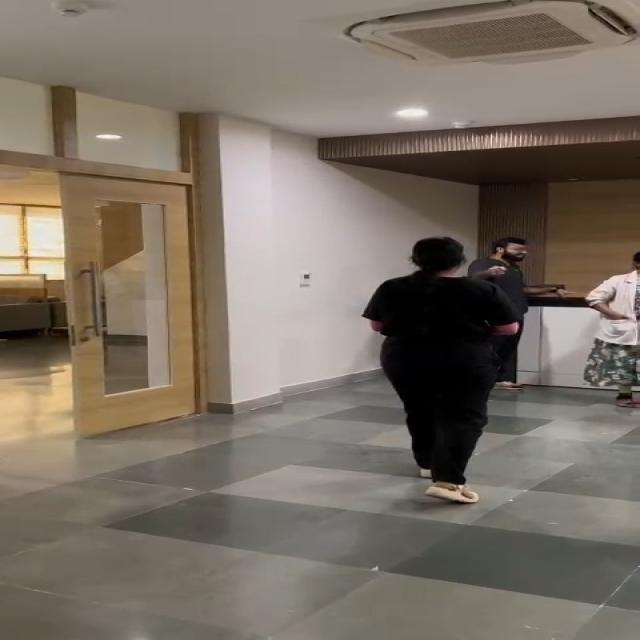door: (0, 79, 215, 428)
floor: (0, 473, 596, 640)
moving_object: (395, 228, 640, 501)
